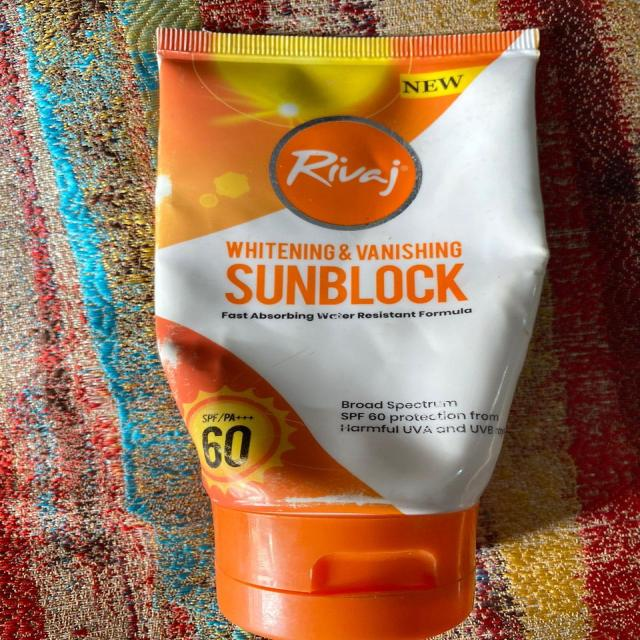sun block: (148, 16, 560, 640)
